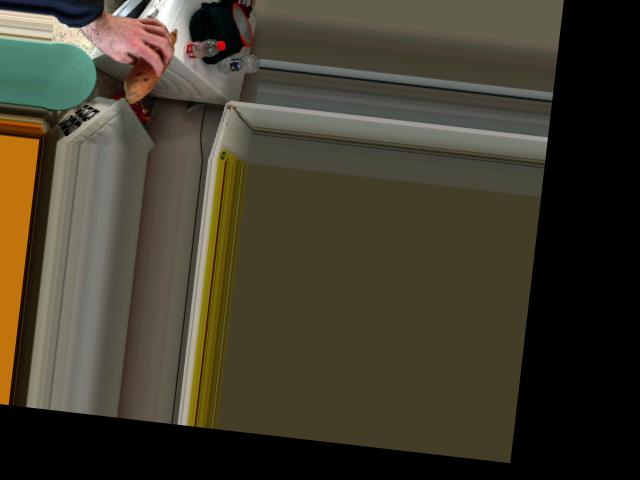sweet_potato: (123, 19, 178, 105)
